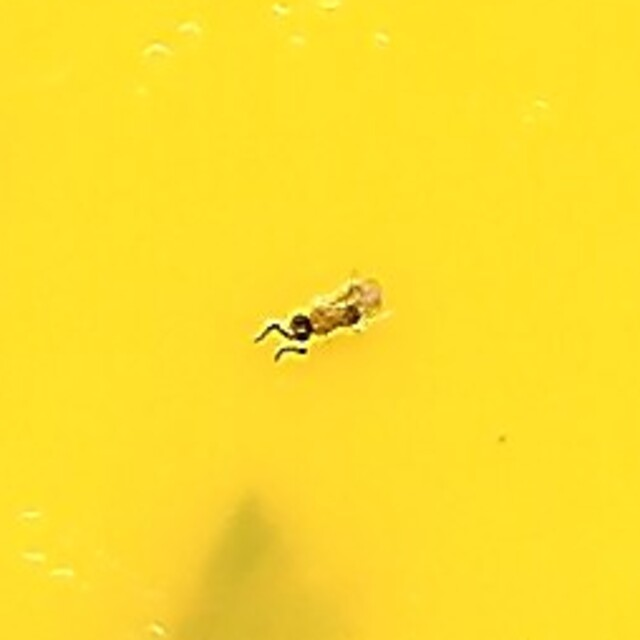Hymenoptera: (252, 272, 388, 368)
